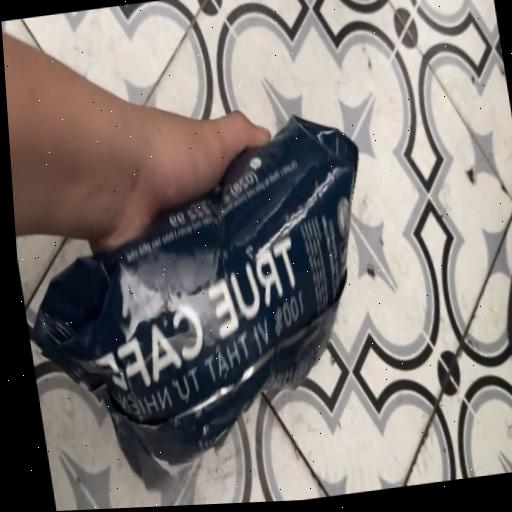cafe_hat: (34, 118, 357, 487)
